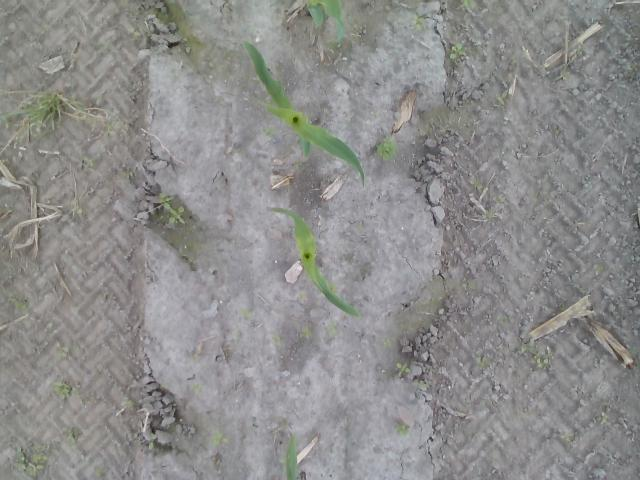Maize: (238, 36, 367, 188), (268, 202, 362, 320), (300, 0, 348, 41), (284, 431, 299, 480)
Weeds: (12, 438, 50, 480), (156, 189, 186, 225), (518, 341, 552, 370), (483, 194, 505, 221), (374, 138, 398, 162), (209, 430, 232, 450), (54, 338, 80, 355), (51, 380, 73, 400), (394, 360, 412, 381), (183, 30, 198, 55), (448, 42, 466, 60), (473, 352, 492, 369), (62, 425, 79, 444), (12, 296, 33, 311), (495, 91, 513, 108), (323, 318, 338, 338), (392, 420, 409, 437), (412, 14, 428, 32), (127, 26, 142, 42), (238, 307, 254, 321), (592, 261, 606, 275), (32, 120, 46, 134), (596, 412, 610, 425), (299, 326, 312, 340), (462, 0, 480, 10), (192, 380, 208, 391), (412, 378, 428, 388), (104, 120, 114, 136), (0, 114, 10, 130), (560, 431, 574, 442), (82, 155, 96, 166), (494, 314, 512, 322), (270, 334, 282, 346), (2, 268, 14, 280), (628, 60, 640, 72), (548, 126, 562, 136), (147, 434, 156, 449), (471, 178, 482, 190), (381, 336, 392, 348), (95, 466, 106, 478), (325, 278, 337, 288), (262, 126, 274, 136), (576, 42, 584, 56), (72, 206, 84, 215), (560, 72, 571, 80), (94, 96, 103, 104)
